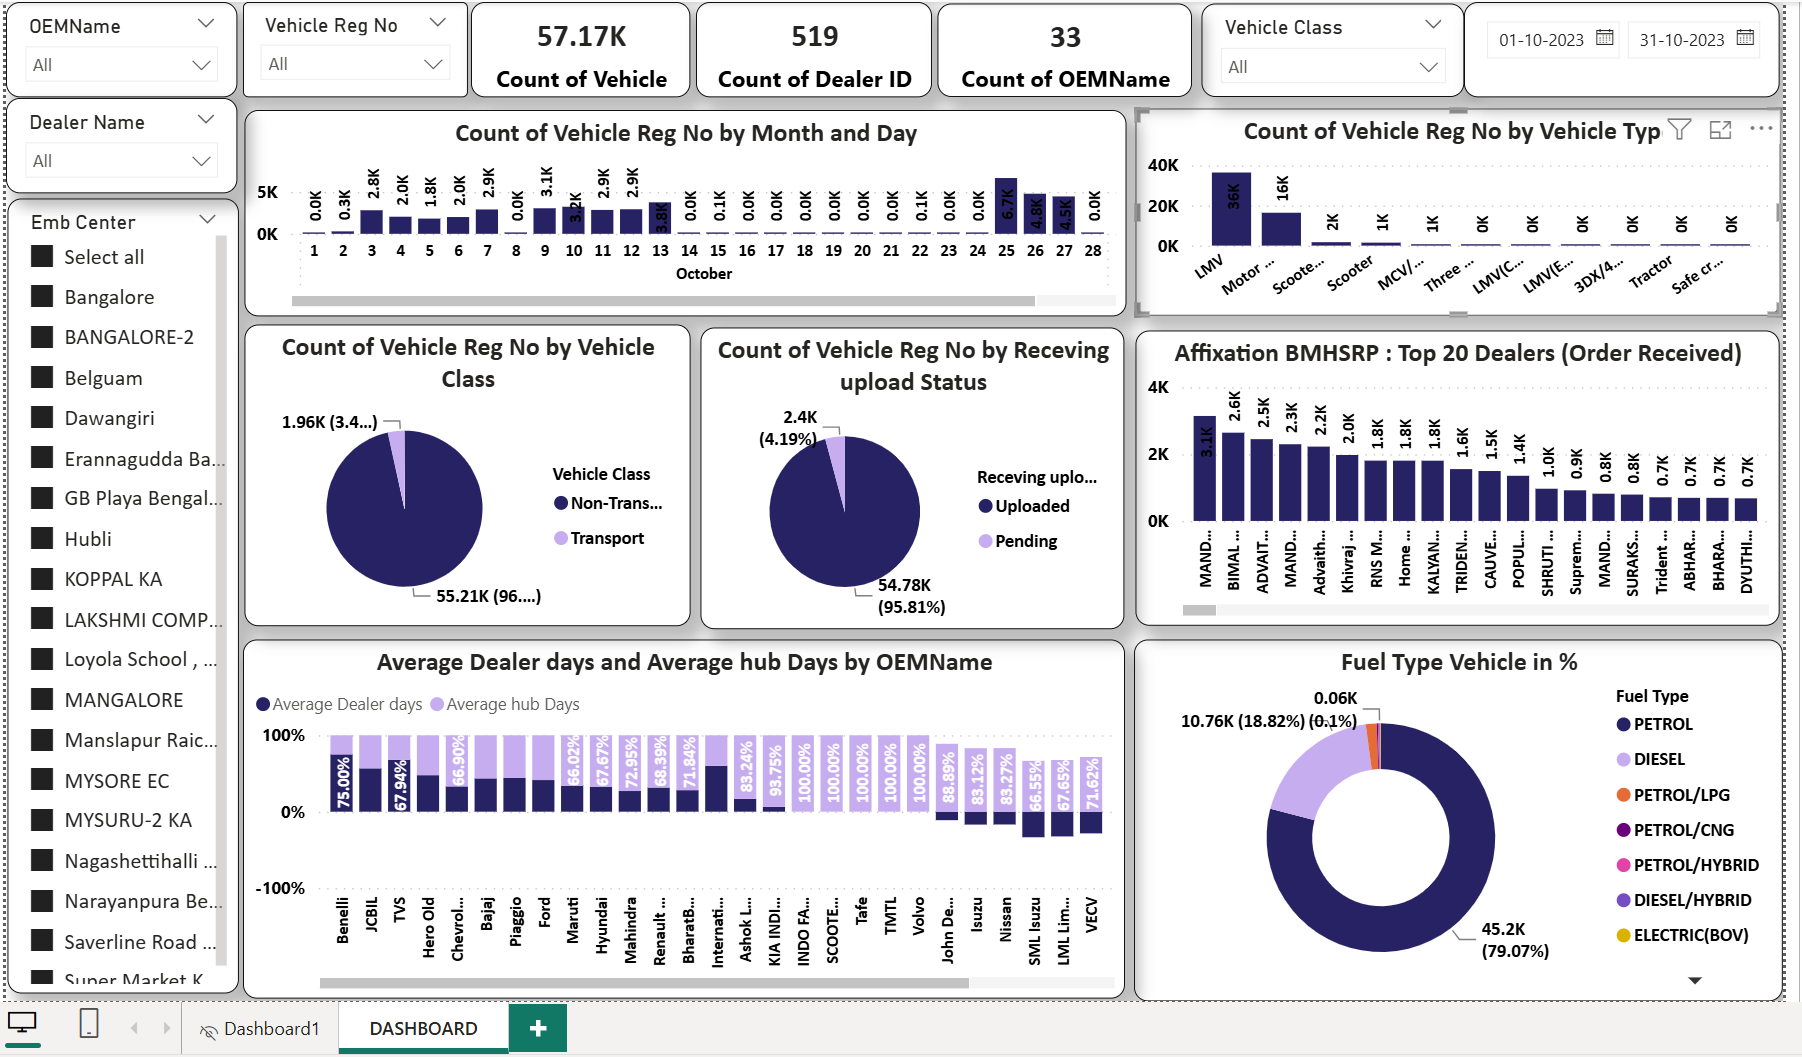

Layout of this report page (visuals, bound fields, positions):
{"tool":"powerbi","page":{"name":"DASHBOARD","canvas":[1280,720],"ordinal":1},"visuals":[{"type":"donutChart","title":"Fuel Type Vehicle in %","fields":{"Category":["Customers.Fuel Type"],"Y":["CountNonNull(Customers.Vehicle Reg No)"]},"box":[812.7,458.9,467.3,260.8],"z":0},{"type":"slicer","fields":{"Values":["Customers.Emb Center"]},"box":[1.2,141.3,166.6,572.4],"z":1000},{"type":"slicer","fields":{"Values":["Customers.OEMName"]},"box":[0,0,166.6,68.8],"z":2000},{"type":"slicer","fields":{"Values":["Customers.Vehicle Reg No"]},"box":[170.3,0,161.8,68.8],"z":3000},{"type":"hundredPercentStackedColumnChart","fields":{"Category":["Customers.OEMName"],"Y":["Customers.Average Dealer days","Customers.Average hub Days"]},"box":[170.3,458.9,635.2,258.4],"z":4000},{"type":"columnChart","fields":{"Category":["Customers.Vehicle Type"],"Y":["CountNonNull(Customers.Vehicle Reg No)"]},"box":[813.7,76.7,464.6,149.1],"z":5000},{"type":"slicer","fields":{"Values":["Customers.Vehicle Class"]},"box":[861,1.2,189.6,67.6],"z":6000},{"type":"columnChart","title":"Affixation BMHSRP : Top 20 Dealers (Order Received)","fields":{"Y":["CountNonNull(Customers.Vehicle Reg No)"],"Category":["Customers.Dealer Name"]},"box":[814.1,234.6,463.8,214.4],"z":7000},{"type":"card","fields":{"Values":["Count(Customers.Vehicle Reg No)"]},"box":[334.5,0,158.2,68.8],"z":8000},{"type":"card","fields":{"Values":["Count(Customers.Dealer ID)"]},"box":[497.5,0,170.3,68.8],"z":9000},{"type":"card","fields":{"Values":["Count(Customers.OEMName)"]},"box":[671.4,1.2,183.5,67.6],"z":10000},{"type":"slicer","fields":{"Values":["Customers.Appointment Date"]},"box":[1050.6,0,227,68.8],"z":11000},{"type":"columnChart","fields":{"Y":["CountNonNull(Customers.Vehicle Reg No)"],"Category":["Customers.Appointment Date.Variation.Date Hierarchy.Month","Customers.Appointment Date.Variation.Date Hierarchy.Day"]},"box":[171.5,77.3,635.2,148.5],"z":12000},{"type":"pieChart","title":"Vehicle Reg No by Vehicle Class","fields":{"Category":["Customers.Vehicle Class"],"Y":["CountNonNull(Customers.Vehicle Reg No)"]},"box":[171.5,231.8,321.2,217.4],"z":13000},{"type":"pieChart","title":"Vehicle Reg No by Receving upload","fields":{"Category":["Customers.Receving upload Status"],"Y":["CountNonNull(Customers.Vehicle Reg No)"]},"box":[499.9,234.3,305.5,217.4],"z":14000},{"type":"slicer","fields":{"Values":["Customers.Dealer Name"]},"box":[0,68.8,166.6,68.8],"z":15000}]}

Visuals, with their boxes on the page's 1280x720 design canvas (x1, y1, x2, y2). These are canvas units, not pixel positions in the 1802x1057 screenshot, which may show the page scaled, cropped or inside an application window:
"Fuel Type Vehicle in %" donutChart: 813:459:1280:720
slicer - Customers.Emb Center: 1:141:168:714
slicer - Customers.OEMName: 0:0:167:69
slicer - Customers.Vehicle Reg No: 170:0:332:69
hundredPercentStackedColumnChart - Customers.OEMName x Customers.Average Dealer days: 170:459:806:717
columnChart - Customers.Vehicle Type x CountNonNull(Customers.Vehicle Reg No): 814:77:1278:226
slicer - Customers.Vehicle Class: 861:1:1051:69
"Affixation BMHSRP : Top 20 Dealers (Order Received)" columnChart: 814:235:1278:449
card - Count(Customers.Vehicle Reg No): 334:0:493:69
card - Count(Customers.Dealer ID): 498:0:668:69
card - Count(Customers.OEMName): 671:1:855:69
slicer - Customers.Appointment Date: 1051:0:1278:69
columnChart - CountNonNull(Customers.Vehicle Reg No) x Customers.Appointment Date.Variation.Date Hierarchy.Month: 172:77:807:226
"Vehicle Reg No by Vehicle Class" pieChart: 172:232:493:449
"Vehicle Reg No by Receving upload" pieChart: 500:234:805:452
slicer - Customers.Dealer Name: 0:69:167:138
